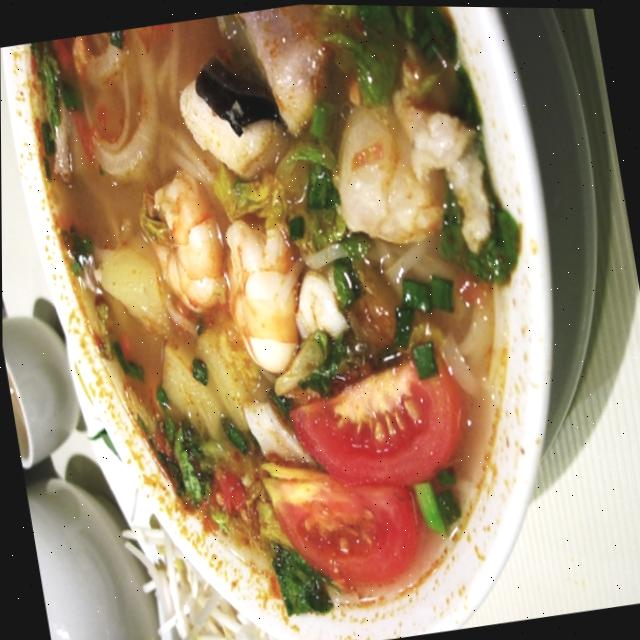汤锅炖物: (14, 0, 562, 631)
